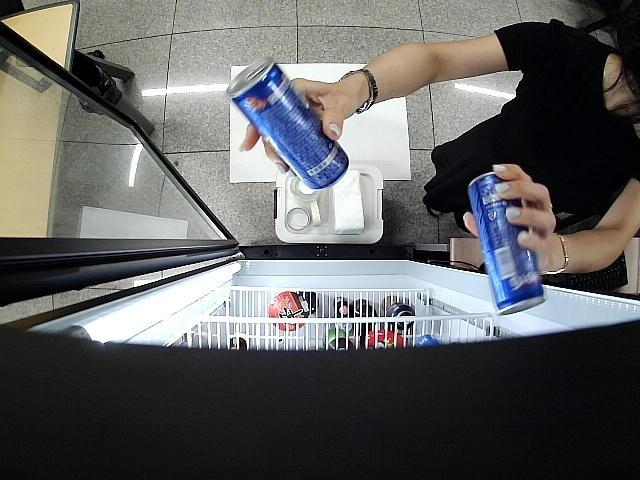16_hot6: (224, 57, 350, 192), (466, 171, 548, 317)
